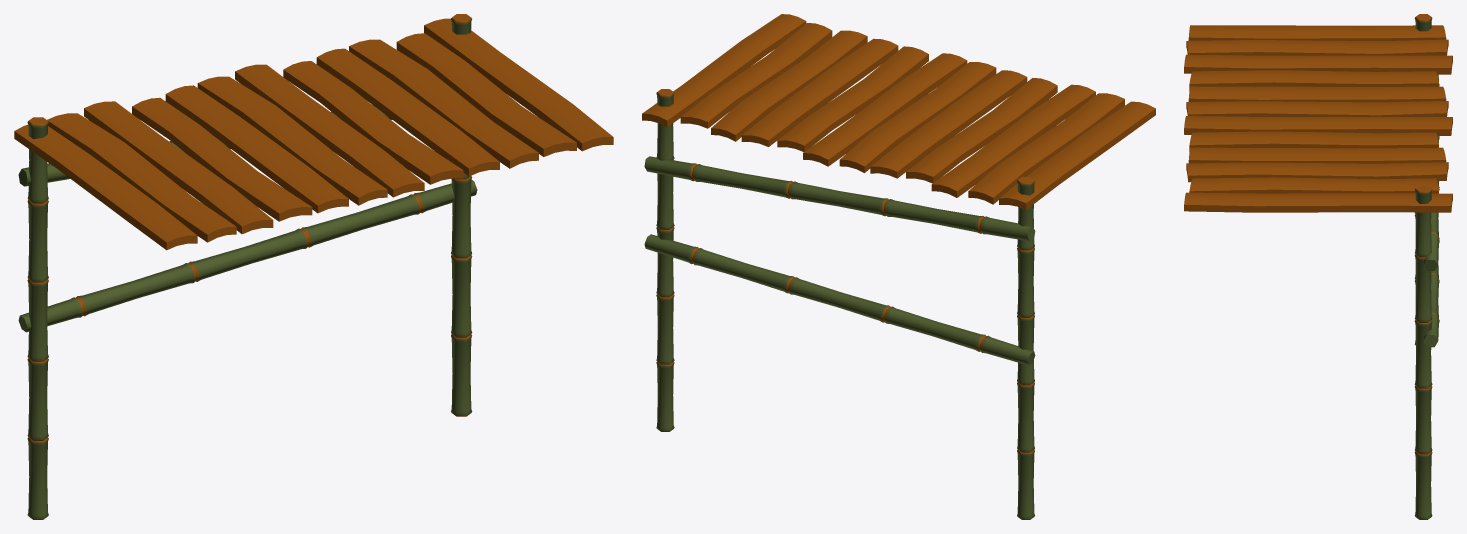
Rendered from Jungle_Platform_02.fbx.
3 views of the same model, side by side, from view 1: azimuth 30°, elevation 25°; view 2: azimuth 150°, elevation 25°; view 3: azimuth 270°, elevation 25° (orthographic). The views are drawn at different scales.
Parts seen in each view (by area): view 1: Jungle_Platform_02; view 2: Jungle_Platform_02; view 3: Jungle_Platform_02.
Boxes of the visible parts, x1=… form: Jungle_Platform_02: x1=14, y1=14, x2=613, y2=519; Jungle_Platform_02: x1=642, y1=14, x2=1155, y2=519; Jungle_Platform_02: x1=1184, y1=14, x2=1452, y2=519.
Bounding box in the file's own units: 5.98 × 5 × 3.71.
